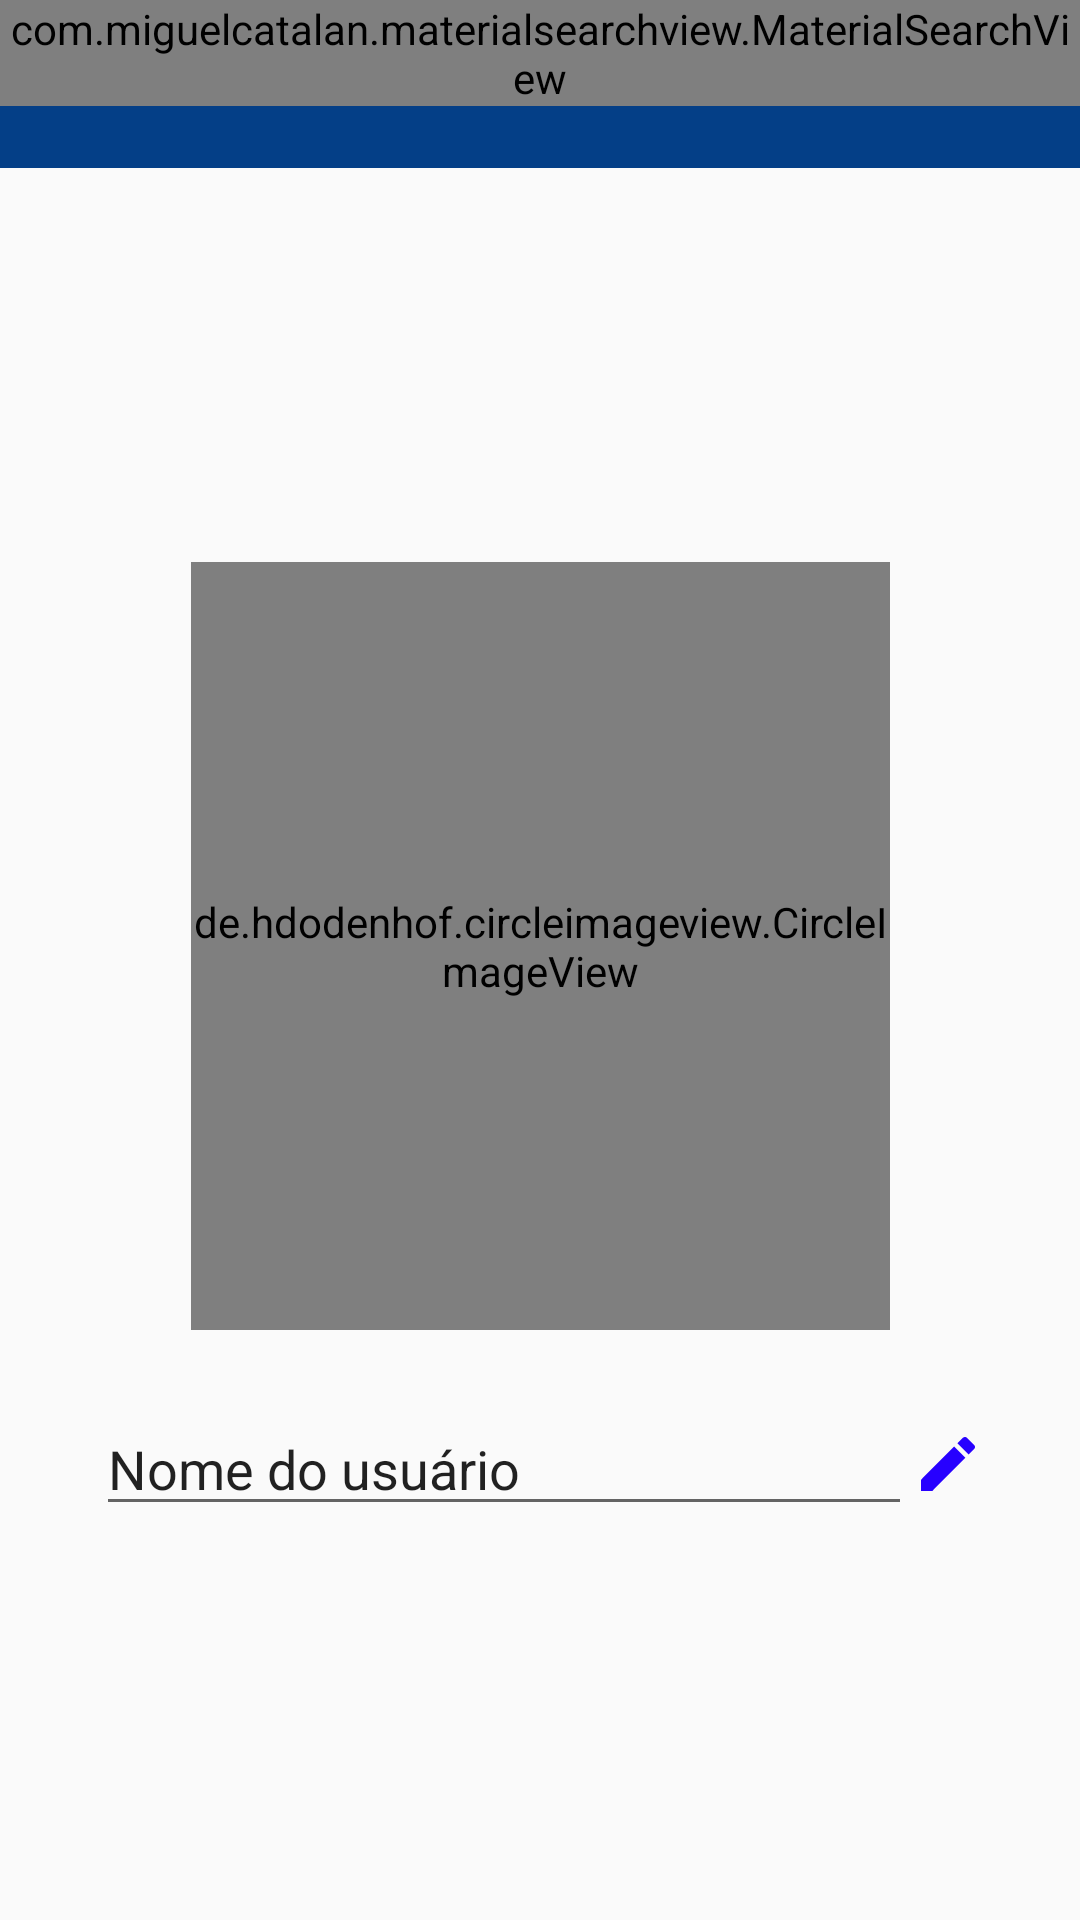

Icons on this 1080 x 1920 Android screen, each with the point to tap as (x=x, y=y):
editar azul: (x=948, y=1464)
